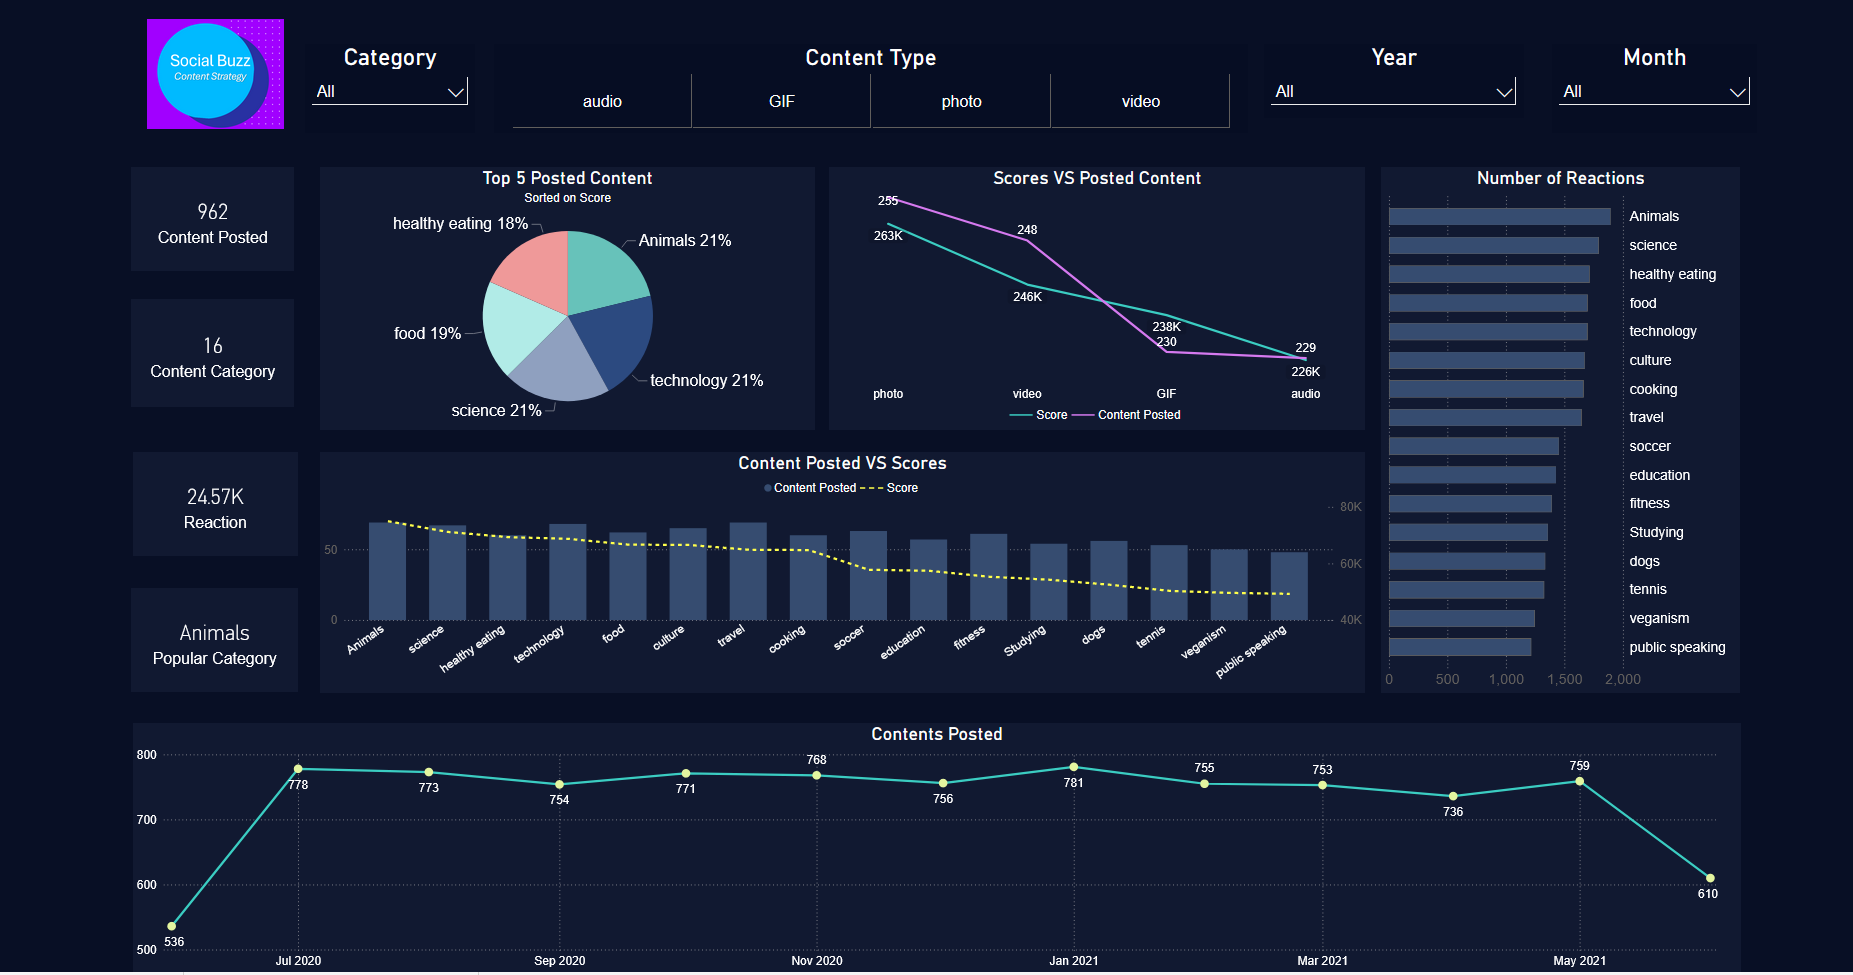

What the dashboard file says about the page in this screenshot:
{"tool":"powerbi","page":{"name":"Page 1","canvas":[2200,1300],"ordinal":0},"visuals":[{"type":"pieChart","title":"Top 5 Posted Content","fields":{"Category":["Reactions.Content Category"],"Y":["Count(Reactions.Content ID)"]},"box":[275.9,223.4,662.3,352.2],"z":0},{"type":"slicer","title":"Year","fields":{"Values":["Reactions.Datetime.Variation.Date Hierarchy.Year"]},"box":[1537.8,58.5,347.9,99.4],"z":1000},{"type":"slicer","title":"Category","fields":{"Values":["Reactions.Content Category"]},"box":[257.3,58.5,228,119.9],"z":2000},{"type":"slicer","title":"Month","fields":{"Values":["Reactions.Datetime.Variation.Date Hierarchy.Month"]},"box":[1923.7,58.5,274.8,119.9],"z":3000},{"type":"slicer","title":"Content Type","fields":{"Values":["Reactions.Content Type"]},"box":[508.7,58.5,1008.6,119.9],"z":4000},{"type":"lineChart","title":"Scores VS Posted Content","fields":{"Category":["Reactions.Content Type"],"Y":["Sum(Reactions.Score)"],"Y2":["Count(Reactions.Content ID)"]},"box":[956.6,223.4,717.5,352.2],"z":5000},{"type":"lineChart","title":"Contents Posted","fields":{"Y":["Count(Reactions.Content ID)"],"Category":["Reactions.Month Year"]},"box":[26.7,967.3,2151,334],"z":6000},{"type":"lineClusteredColumnComboChart","title":"Content Posted VS Scores","fields":{"Category":["Reactions.Content Category"],"Y":["Count(Reactions.Content ID)"],"Y2":["Sum(Reactions.Score)"]},"box":[275.9,604.5,1398.1,323.3],"z":7000},{"type":"card","title":"Content Posted","fields":{"Values":["Count(Reactions.Content ID)"]},"box":[23.7,223.4,218.1,139.3],"z":8000},{"type":"card","fields":{"Values":["Count(Reactions.Content Category)"]},"box":[23.7,399.5,218.1,144.5],"z":9000},{"type":"card","fields":{"Values":["CountNonNull(Reactions.Reaction)"]},"box":[26.3,604.5,220.8,139.3],"z":10000},{"type":"card","fields":{"Values":["Min(Reactions.Content Category)"]},"box":[23.7,785.8,223.4,139.3],"z":11000},{"type":"clusteredBarChart","title":"Number of Reactions","fields":{"Category":["Reactions.Content Category"],"Y":["CountNonNull(Reactions.Reaction)"]},"box":[1695.1,223.4,480.9,704.3],"z":12000},{"type":"image","box":[28.9,21,218.1,157.7],"z":13000}]}

Visuals, with their boxes on the page's 2200x1300 design canvas (x1, y1, x2, y2). These are canvas units, not pixel positions in the 1853x975 screenshot, which may show the page scaled, cropped or inside an application window:
"Top 5 Posted Content" pieChart: 276/223/938/576
"Year" slicer: 1538/58/1886/158
"Category" slicer: 257/58/485/178
"Month" slicer: 1924/58/2198/178
"Content Type" slicer: 509/58/1517/178
"Scores VS Posted Content" lineChart: 957/223/1674/576
"Contents Posted" lineChart: 27/967/2178/1301
"Content Posted VS Scores" lineClusteredColumnComboChart: 276/604/1674/928
"Content Posted" card: 24/223/242/363
card - Count(Reactions.Content Category): 24/400/242/544
card - CountNonNull(Reactions.Reaction): 26/604/247/744
card - Min(Reactions.Content Category): 24/786/247/925
"Number of Reactions" clusteredBarChart: 1695/223/2176/928
image: 29/21/247/179
